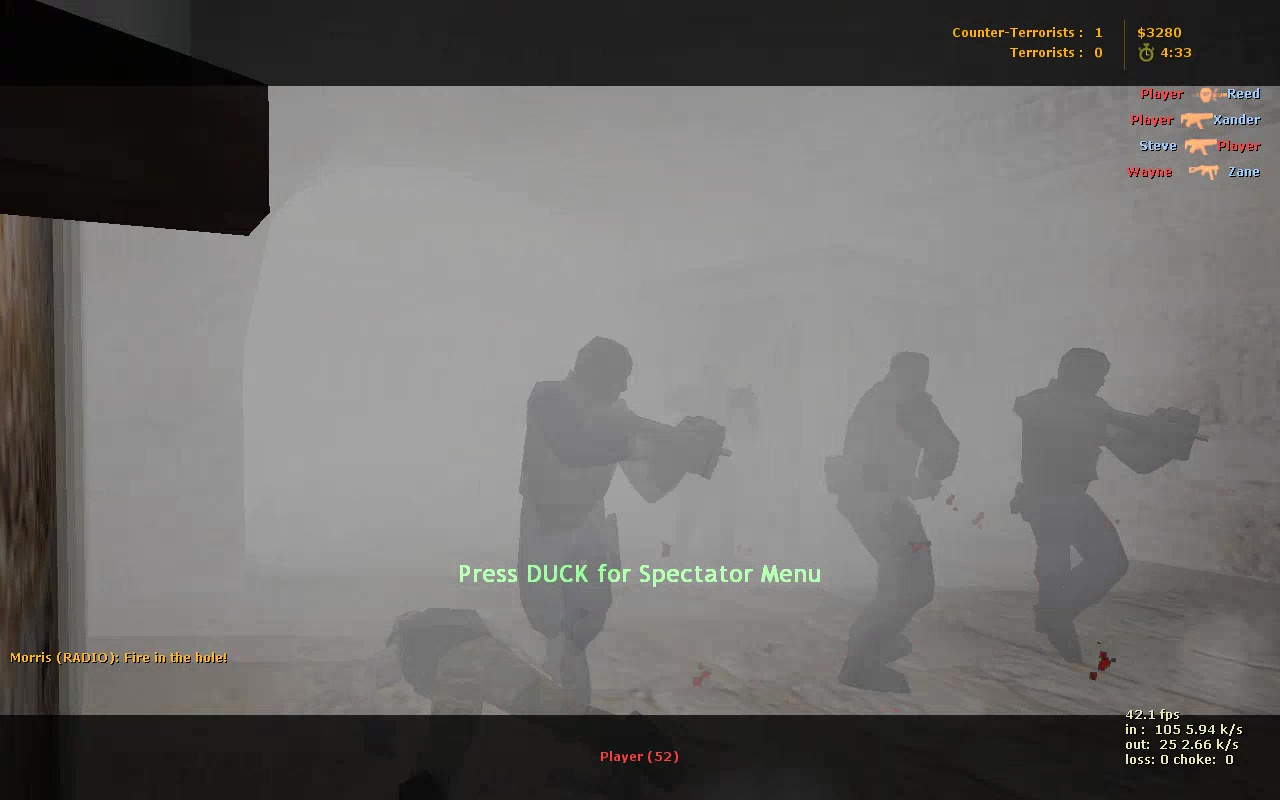ct: (510, 333, 721, 701), (1014, 342, 1199, 669), (823, 349, 963, 697)
